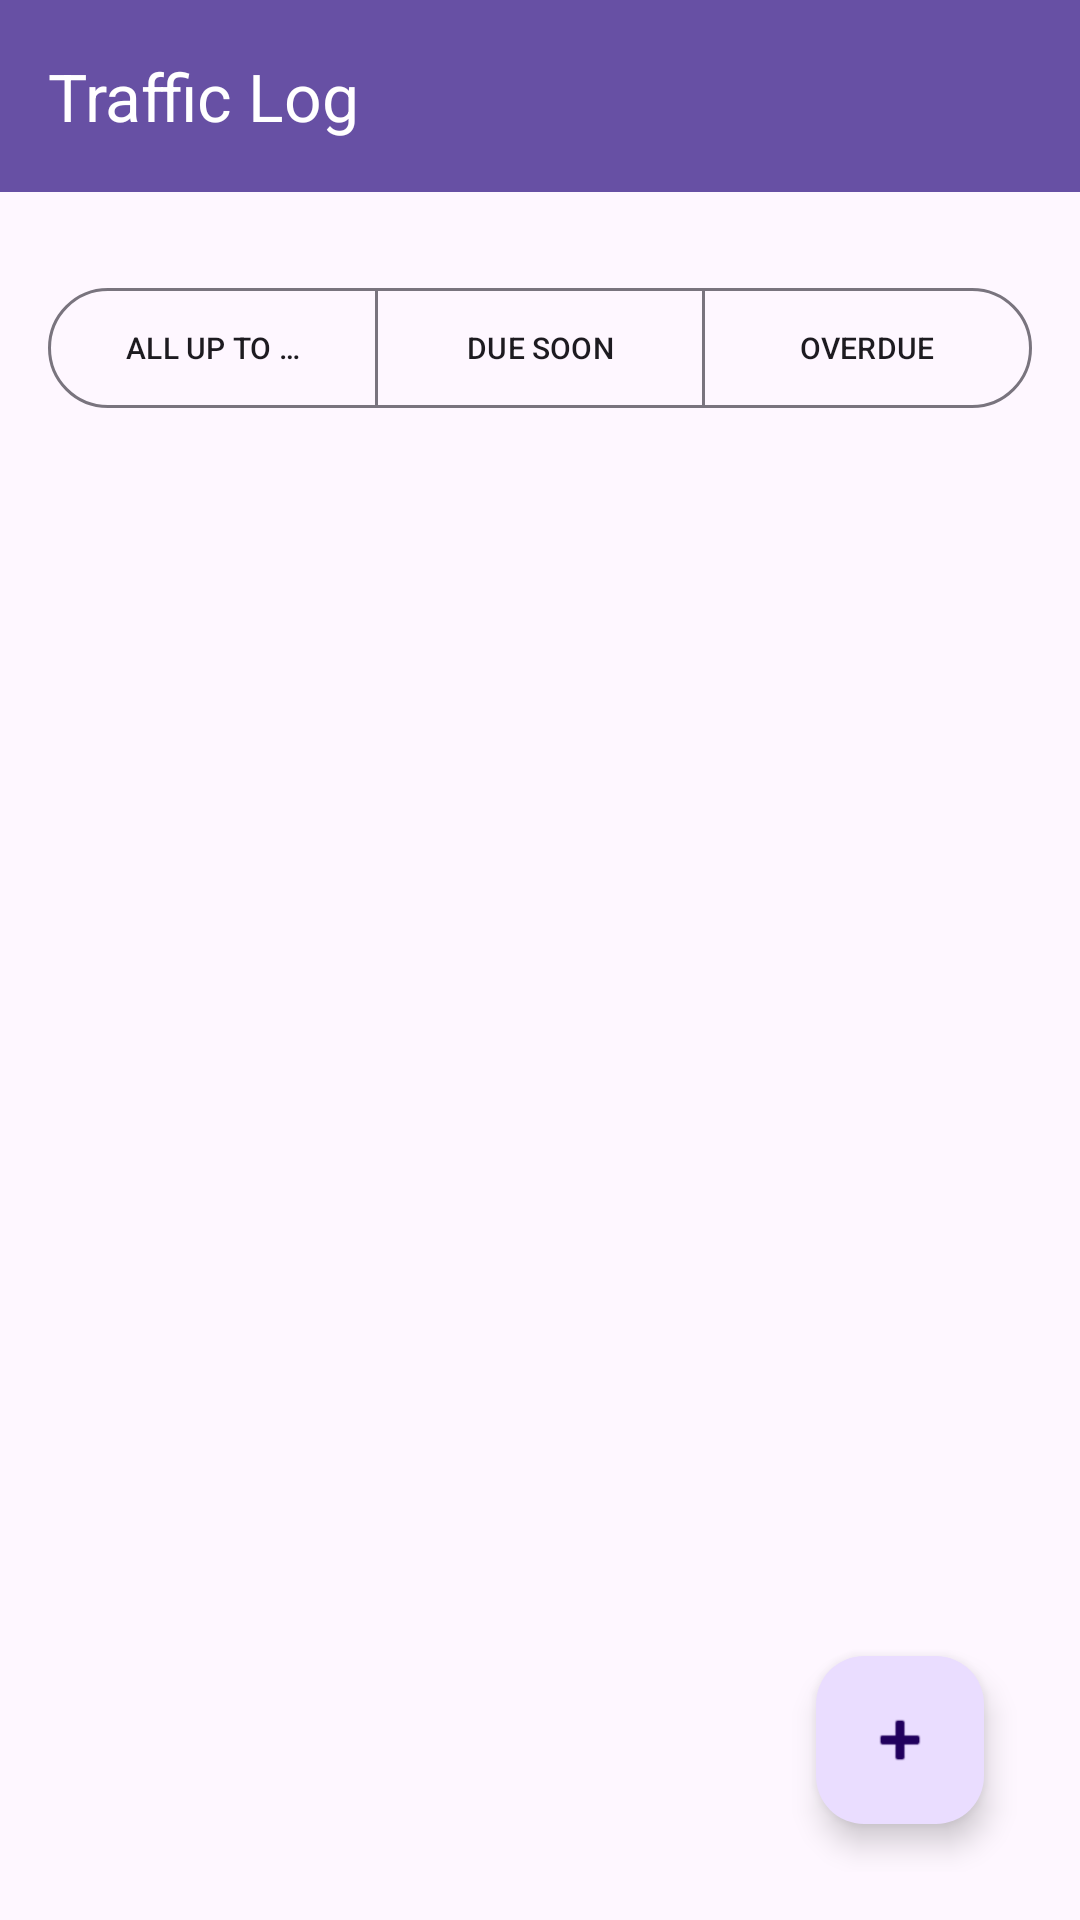

Where to tap for icons on this 1080w x 1920h app screen, as [x,y]:
Add vehicle: [900,1740]
